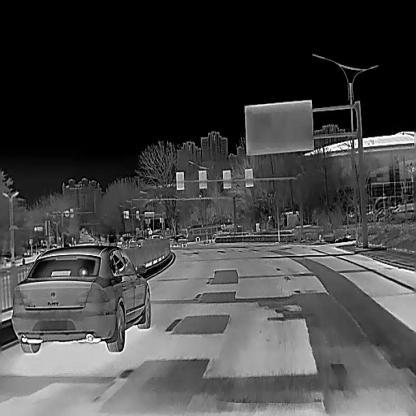car: (10, 243, 151, 351), (186, 223, 225, 241), (171, 232, 188, 247)
